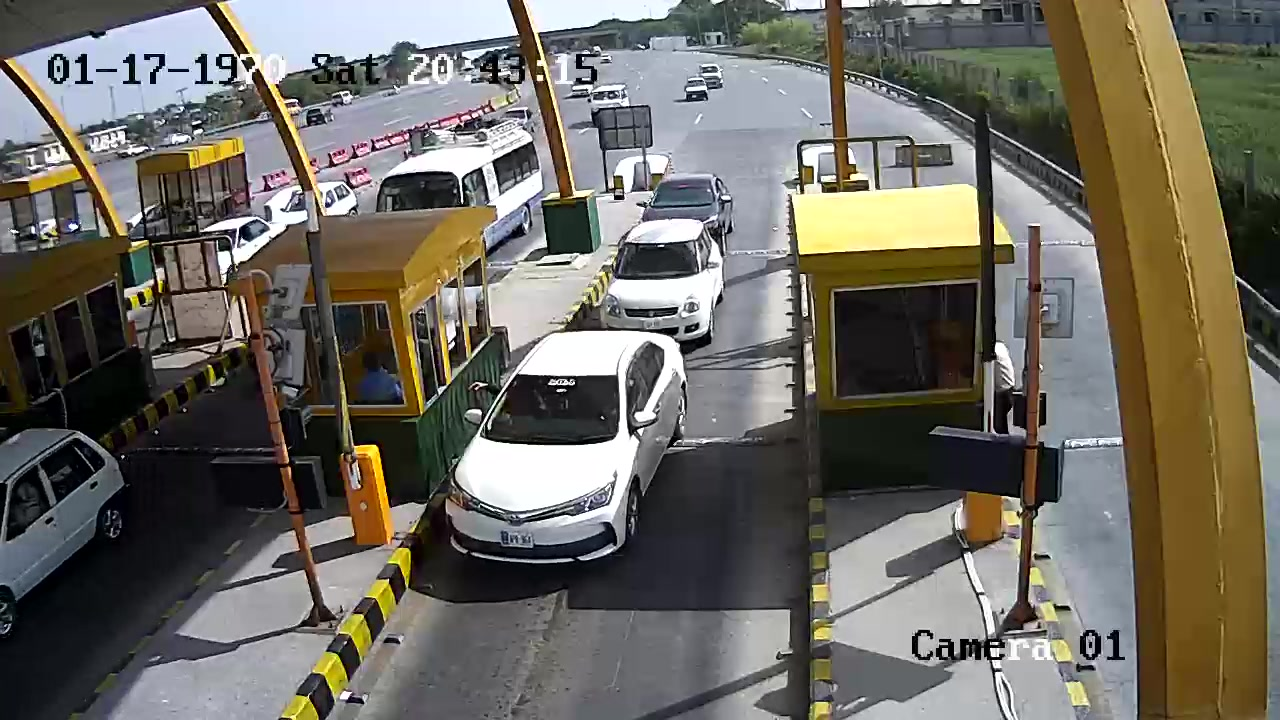F1: (449, 325, 696, 570)
